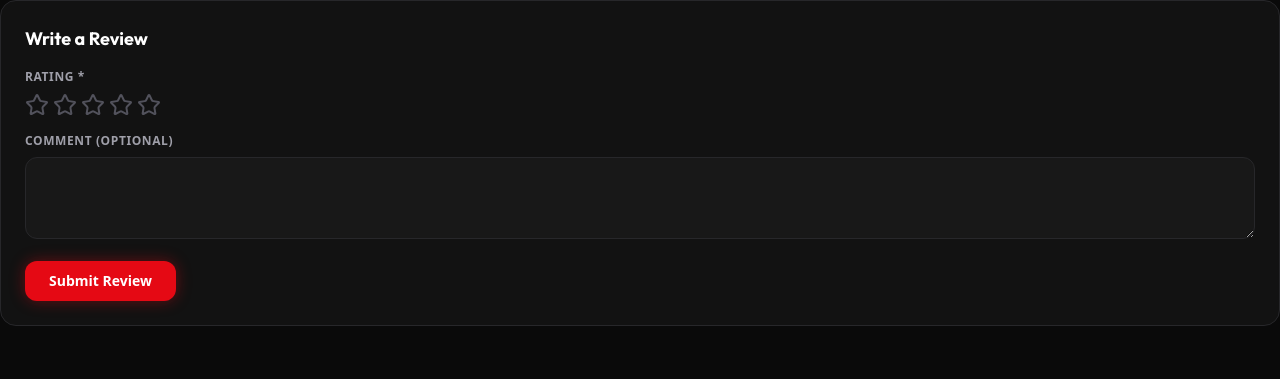
Test: AddReviewForm › shows the error and keeps the user's rating when submitting fails
Step 1. Click the 4th button → [121, 105], box [109,93,133,117]
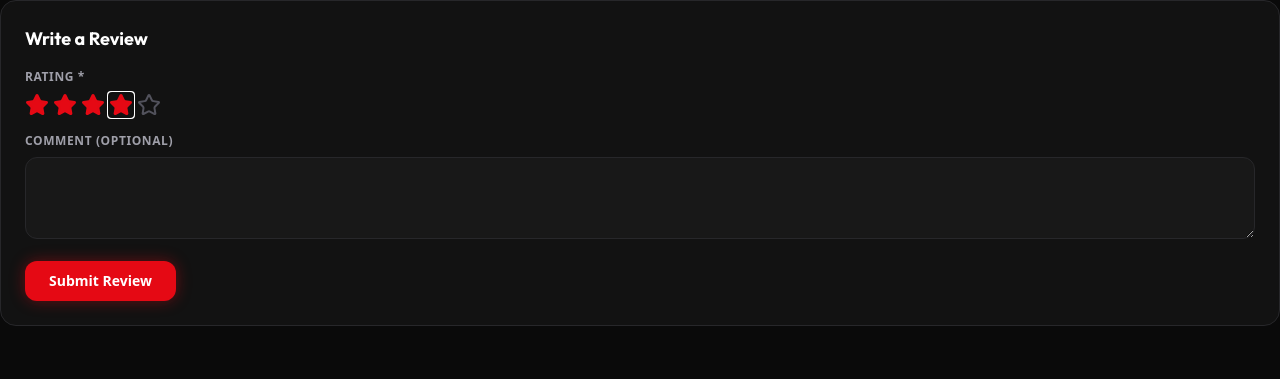
Step 2. Click the button "Submit Review" → [100, 281], box [25,261,176,301]
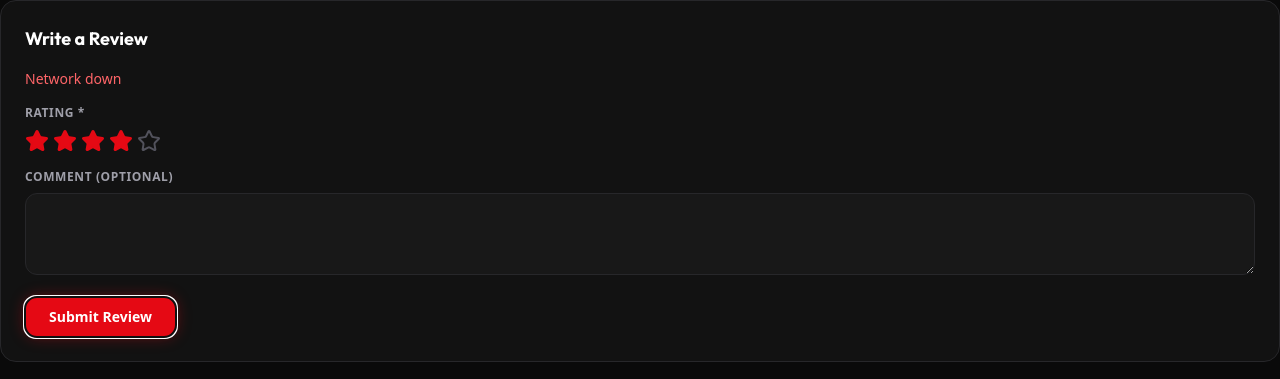
Expected: the text "Network down" is shown, [25,69,121,88]
